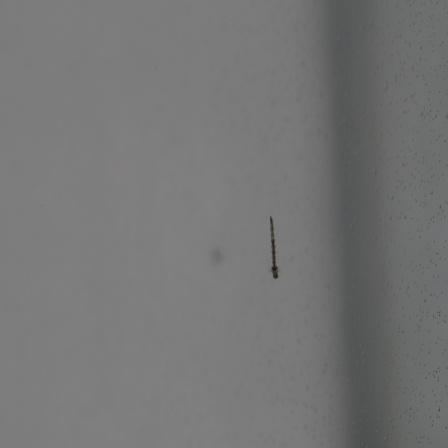Jentik-Nyamuk: (264, 216, 283, 280)
